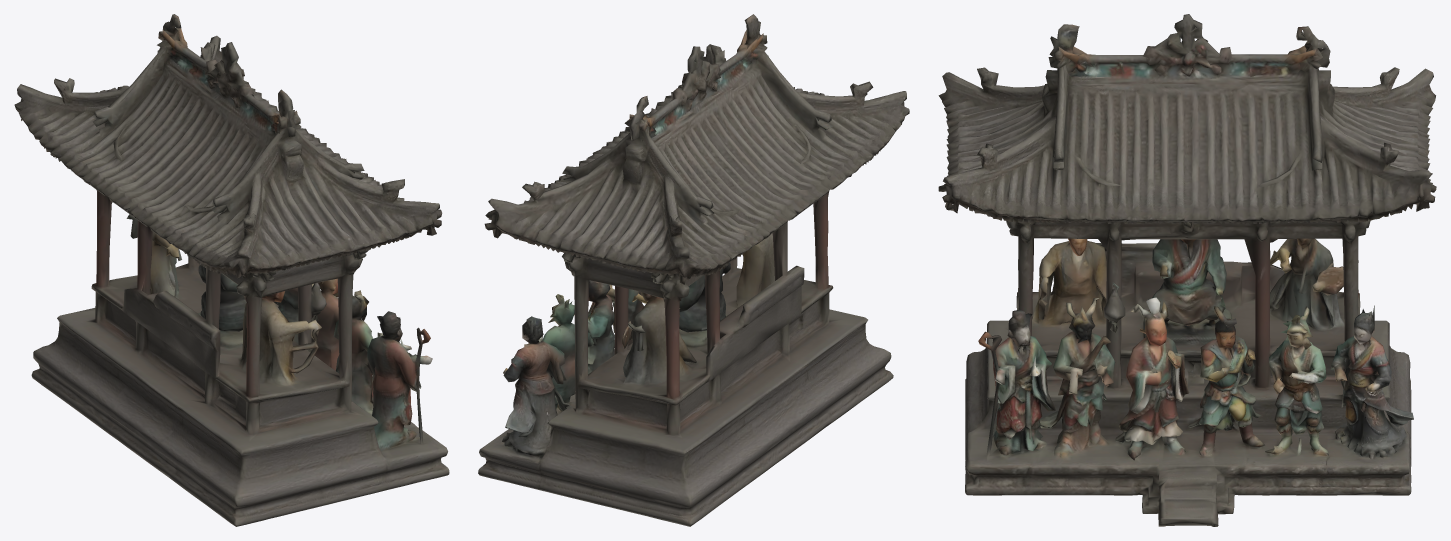
File: building-yuhuangmiao.glb
The picture shows the model from 3 angles, left to right: view 1: azimuth 30°, elevation 25°; view 2: azimuth 150°, elevation 25°; view 3: azimuth 270°, elevation 25°; orthographic projection. The views are drawn at different scales.
Visible parts, largest first — view 1: node_0093ad15-3534-471a-a96e-1d77a19b1772; view 2: node_0093ad15-3534-471a-a96e-1d77a19b1772; view 3: node_0093ad15-3534-471a-a96e-1d77a19b1772.
Part boxes in pixels (bbox=[...]): node_0093ad15-3534-471a-a96e-1d77a19b1772: bbox=[14, 14, 449, 526]; node_0093ad15-3534-471a-a96e-1d77a19b1772: bbox=[478, 14, 909, 526]; node_0093ad15-3534-471a-a96e-1d77a19b1772: bbox=[938, 14, 1436, 526].
Bounding box in the file's own units: 0.689 × 0.9434 × 1.
Materials: 1 (1 with a texture image).
